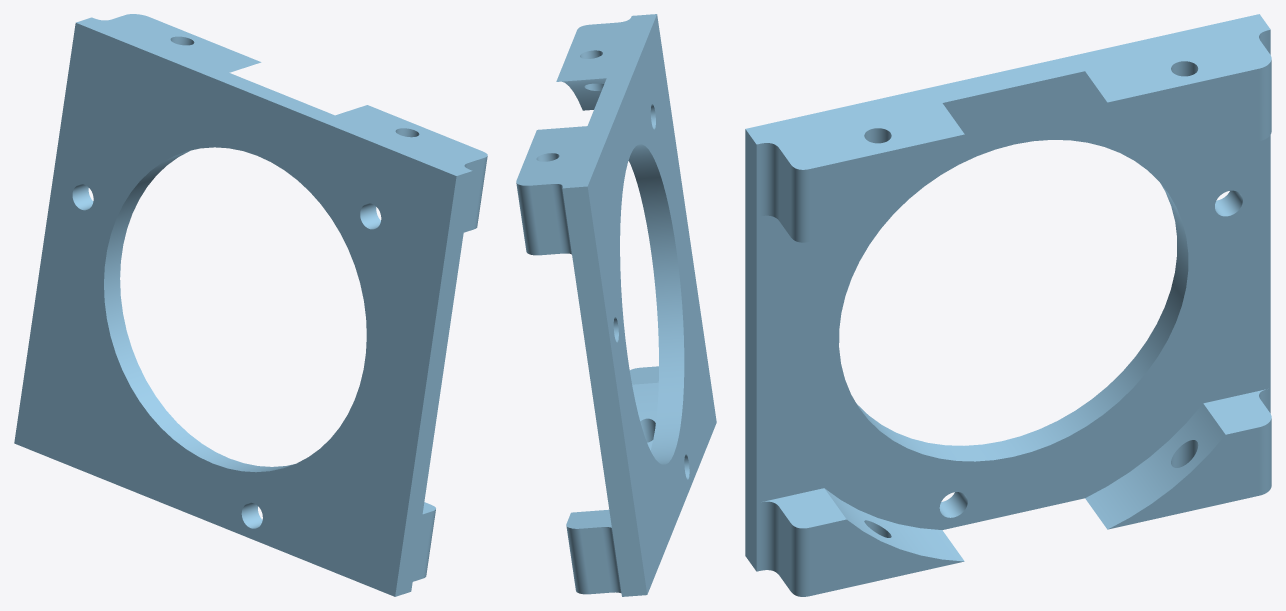
3 renders of one model, left to right at view 1: azimuth 30°, elevation 25°; view 2: azimuth 150°, elevation 25°; view 3: azimuth 270°, elevation 25°, orthographic. The views are drawn at different scales.
Parts seen in each view (by area): view 1: mesh4655, mesh4681, mesh4656, mesh4654, mesh4670, mesh4663; view 2: mesh4655, mesh4657, mesh4681, mesh4654, mesh4677, mesh4685, mesh4680, mesh4688, mesh4667, mesh4686, mesh4676, mesh4674 (+3 smaller); view 3: mesh4661, mesh4681, mesh4654, mesh4672, mesh4665, mesh4679, mesh4687, mesh4690, mesh4656, mesh4667, mesh4686, mesh4664 (+8 smaller).
Part boxes in pixels (box(x1,y1,x2,y2)): mesh4655: box(14, 23, 456, 596); mesh4681: box(76, 14, 487, 175); mesh4656: box(395, 171, 472, 596); mesh4654: box(104, 150, 293, 472); mesh4670: box(463, 158, 483, 232); mesh4663: box(412, 511, 432, 581); mesh4655: box(587, 14, 716, 594); mesh4657: box(562, 186, 647, 596); mesh4681: box(516, 14, 656, 188); mesh4654: box(628, 144, 684, 464); mesh4677: box(530, 184, 561, 255); mesh4685: box(580, 527, 611, 594); mesh4680: box(516, 183, 540, 255); mesh4688: box(566, 526, 589, 594); mesh4667: box(632, 382, 658, 450); mesh4686: box(566, 509, 611, 528); mesh4676: box(552, 184, 571, 254); mesh4674: box(562, 78, 606, 110); mesh4661: box(756, 29, 1270, 571); mesh4681: box(745, 14, 1271, 169); mesh4654: box(856, 184, 1188, 461); mesh4672: box(810, 134, 963, 241); mesh4665: box(810, 519, 963, 595); mesh4679: box(1108, 68, 1259, 147); mesh4687: box(1108, 427, 1259, 529); mesh4690: box(1085, 403, 1225, 529); mesh4656: box(745, 129, 756, 571); mesh4667: box(825, 489, 964, 561); mesh4686: box(1203, 389, 1271, 434); mesh4664: box(763, 488, 846, 528).
Size of the model in its own units: 0.0354 by 0.0549 by 0.0523.
